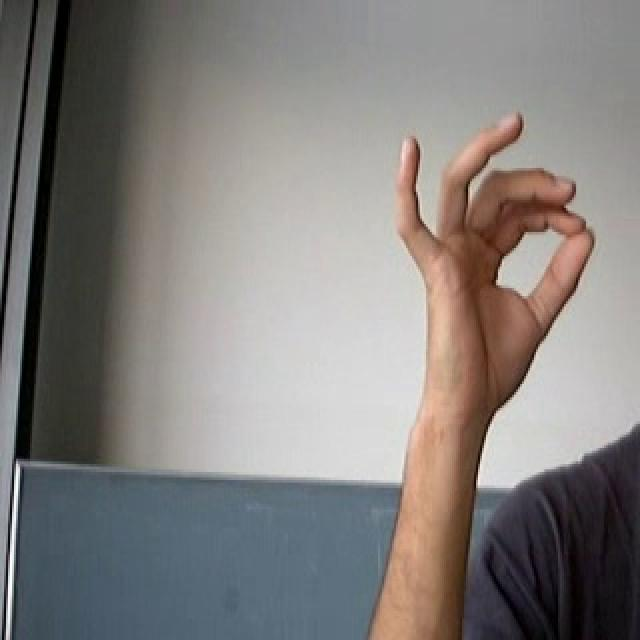F: (377, 101, 612, 427)
